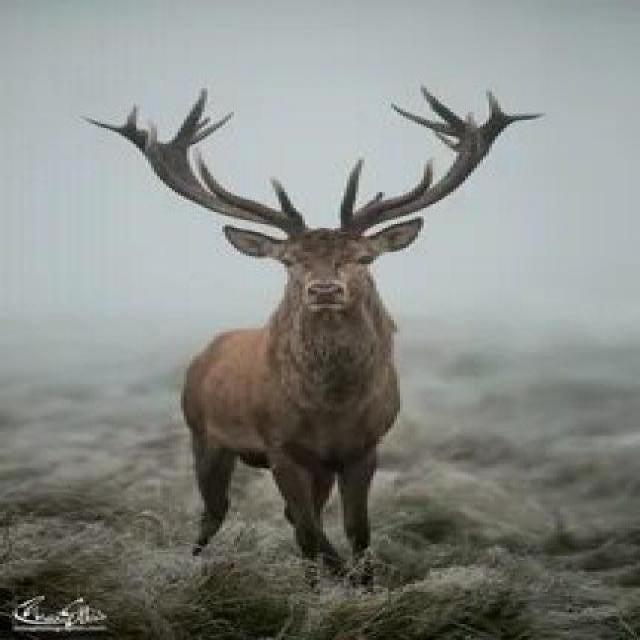deer: (38, 72, 604, 503)
